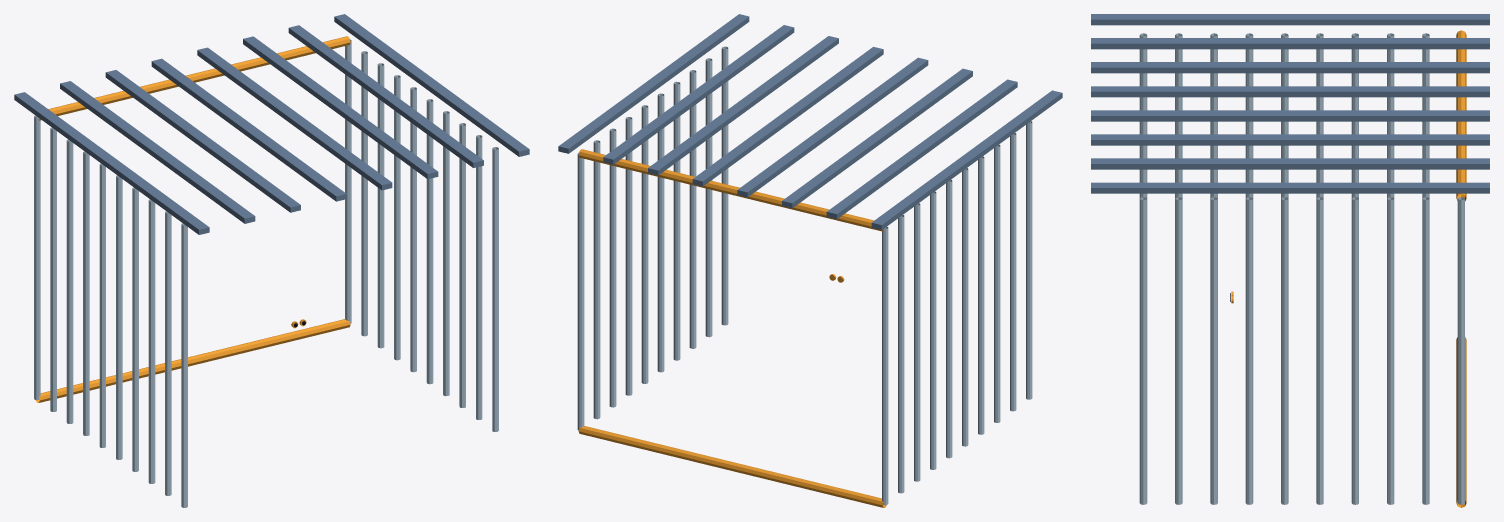
Rendered from 08_L89_WaterWallStructuralContainmentFrame.fbx.
The picture shows the model from 3 angles, left to right: view 1: azimuth 30°, elevation 25°; view 2: azimuth 150°, elevation 25°; view 3: azimuth 270°, elevation 25°; orthographic projection. The views are drawn at different scales.
Parts seen in each view (by area): view 1: L87_WaterWallStructuralContainmentFrame_Part_0000, L87_WaterWallStructuralContainmentFrame_Part_0003, L87_WaterWallStructuralContainmentFrame_Part_0002, L87_WaterWallStructuralContainmentFrame_Part_0001; view 2: L87_WaterWallStructuralContainmentFrame_Part_0000, L87_WaterWallStructuralContainmentFrame_Part_0003, L87_WaterWallStructuralContainmentFrame_Part_0002, L87_WaterWallStructuralContainmentFrame_Part_0001; view 3: L87_WaterWallStructuralContainmentFrame_Part_0003, L87_WaterWallStructuralContainmentFrame_Part_0000, L87_WaterWallStructuralContainmentFrame_Part_0001, L87_WaterWallStructuralContainmentFrame_Part_0002.
Part boxes in pixels (x1,y1,x2,y2): L87_WaterWallStructuralContainmentFrame_Part_0000: [34, 39, 482, 507]; L87_WaterWallStructuralContainmentFrame_Part_0003: [14, 14, 529, 234]; L87_WaterWallStructuralContainmentFrame_Part_0002: [35, 36, 350, 402]; L87_WaterWallStructuralContainmentFrame_Part_0001: [492, 147, 498, 431]; L87_WaterWallStructuralContainmentFrame_Part_0000: [577, 58, 1032, 504]; L87_WaterWallStructuralContainmentFrame_Part_0003: [558, 14, 1062, 230]; L87_WaterWallStructuralContainmentFrame_Part_0002: [578, 149, 886, 507]; L87_WaterWallStructuralContainmentFrame_Part_0001: [721, 46, 728, 325]; L87_WaterWallStructuralContainmentFrame_Part_0003: [1091, 14, 1489, 193]; L87_WaterWallStructuralContainmentFrame_Part_0000: [1139, 33, 1464, 504]; L87_WaterWallStructuralContainmentFrame_Part_0001: [1139, 197, 1147, 504]; L87_WaterWallStructuralContainmentFrame_Part_0002: [1456, 30, 1466, 507].
Bounding box in the file's own units: 723 × 630 × 700.
